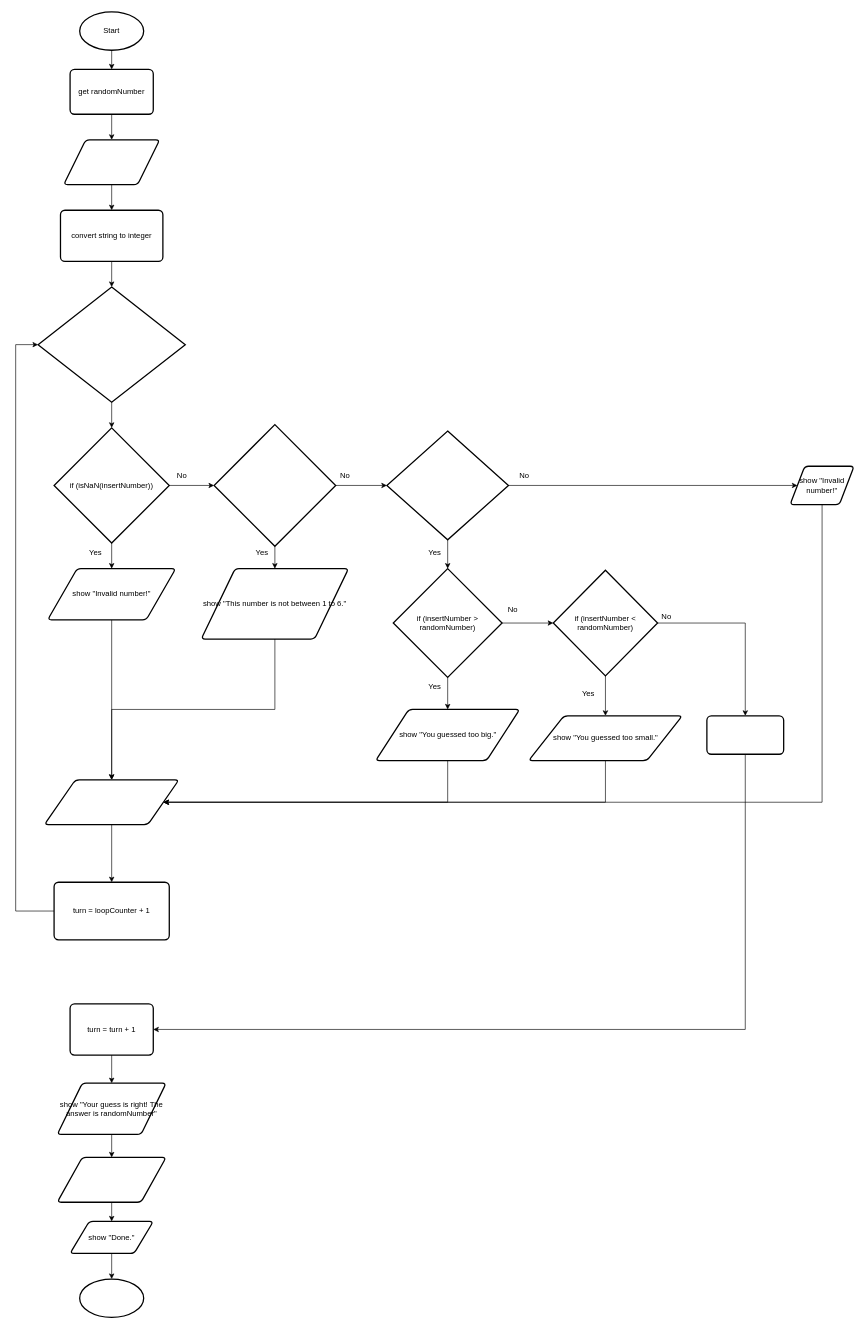
The diagram is 866 pixels wide and 1329 high, and some of its shapes have lost their labels. Here are the shapes that lost their labels. From the top down, the centre of each, then its label:
[111,162]: get insertString
[111,344]: for (loopCounter = 0; loopCounter < loopCounter + 1; loopCounter++
[274,485]: if (insertNumber < 1 || insertNumber > 6)
[447,485]: if (insertNumber >= 1 && insertNumber <= 6)
[745,735]: break
[111,802]: show "Please try again."
[111,1179]: show "It takes you turn turns to get right."
[111,1298]: Stop
